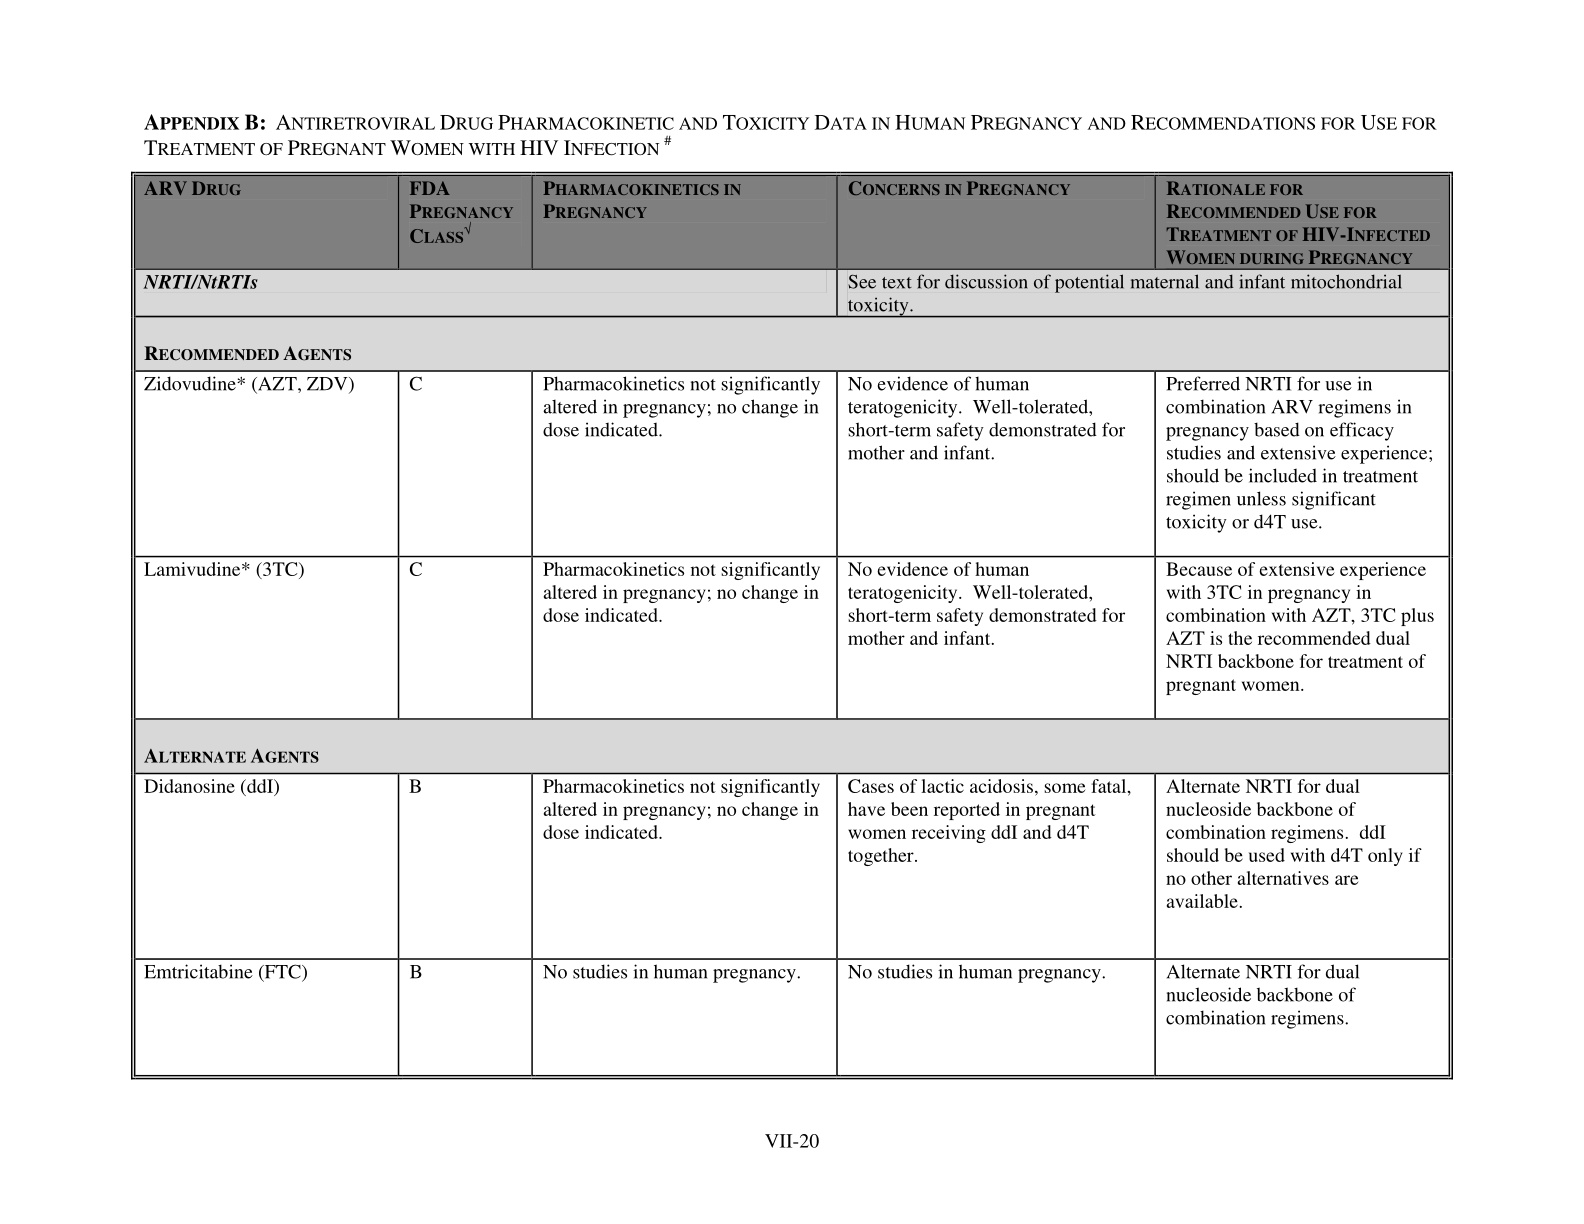merged_cells: (130, 170, 1454, 1080)
